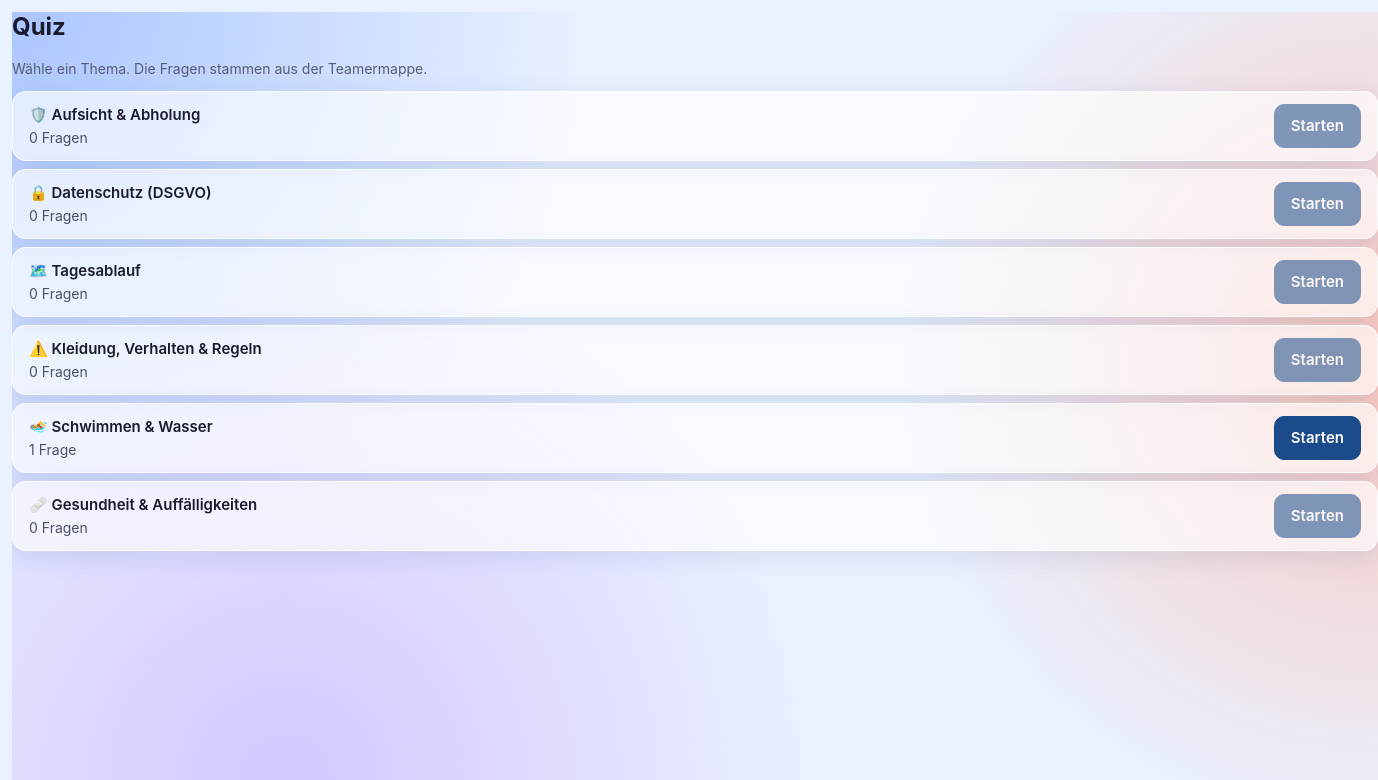
Scenario: Quiz: Ablauf › Mehrfachfrage: Auswahl, Bestätigung, nur vollständig richtig zählt
The image size is (1378, 780).
Click the button with aria-label "Quiz starten: Schwimmen & Wasser".
click(1317, 438)  # box x1=1274 y1=416 x2=1361 y2=460
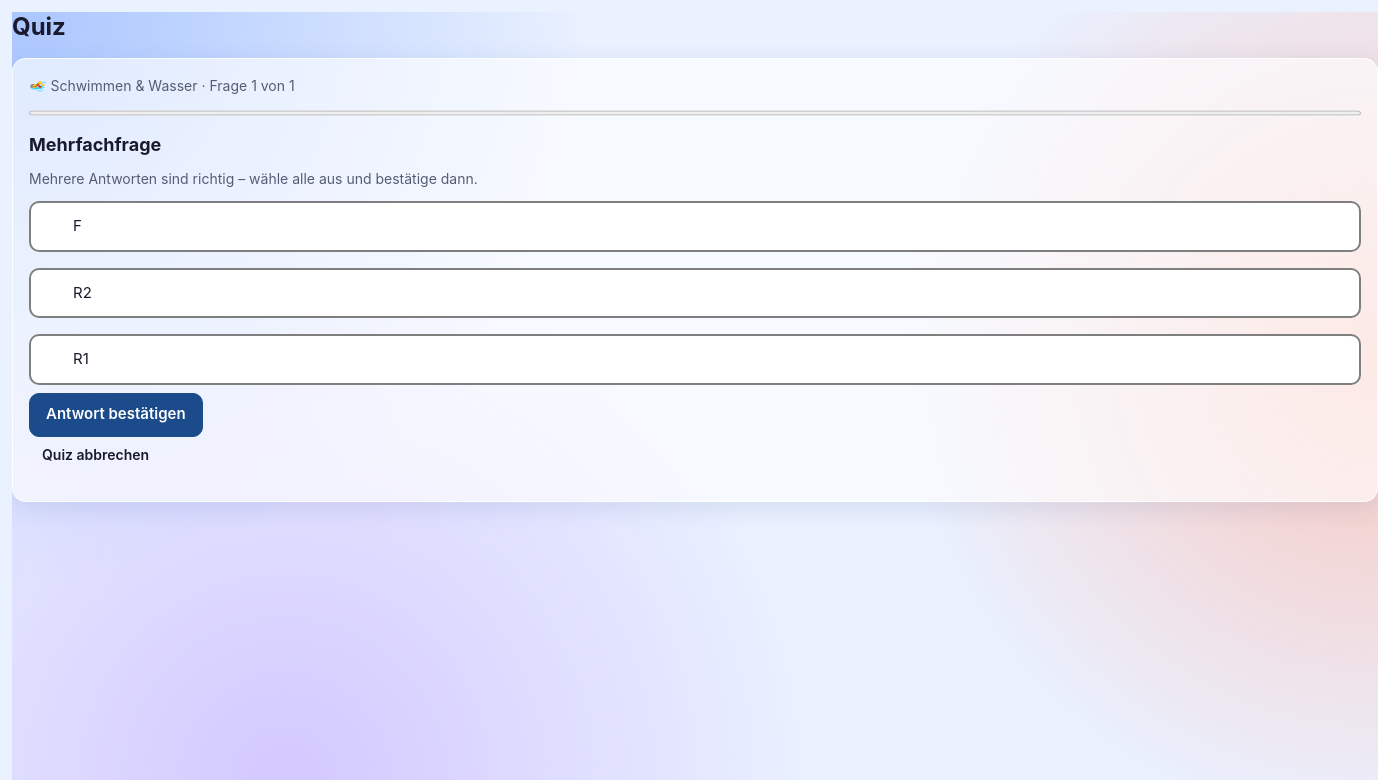
Check: the text "Mehrere Antworten sind richtig" is shown, box x1=29 y1=170 x2=478 y2=187
Click the button "R1".
click(81, 358)  # box x1=29 y1=334 x2=1361 y2=384
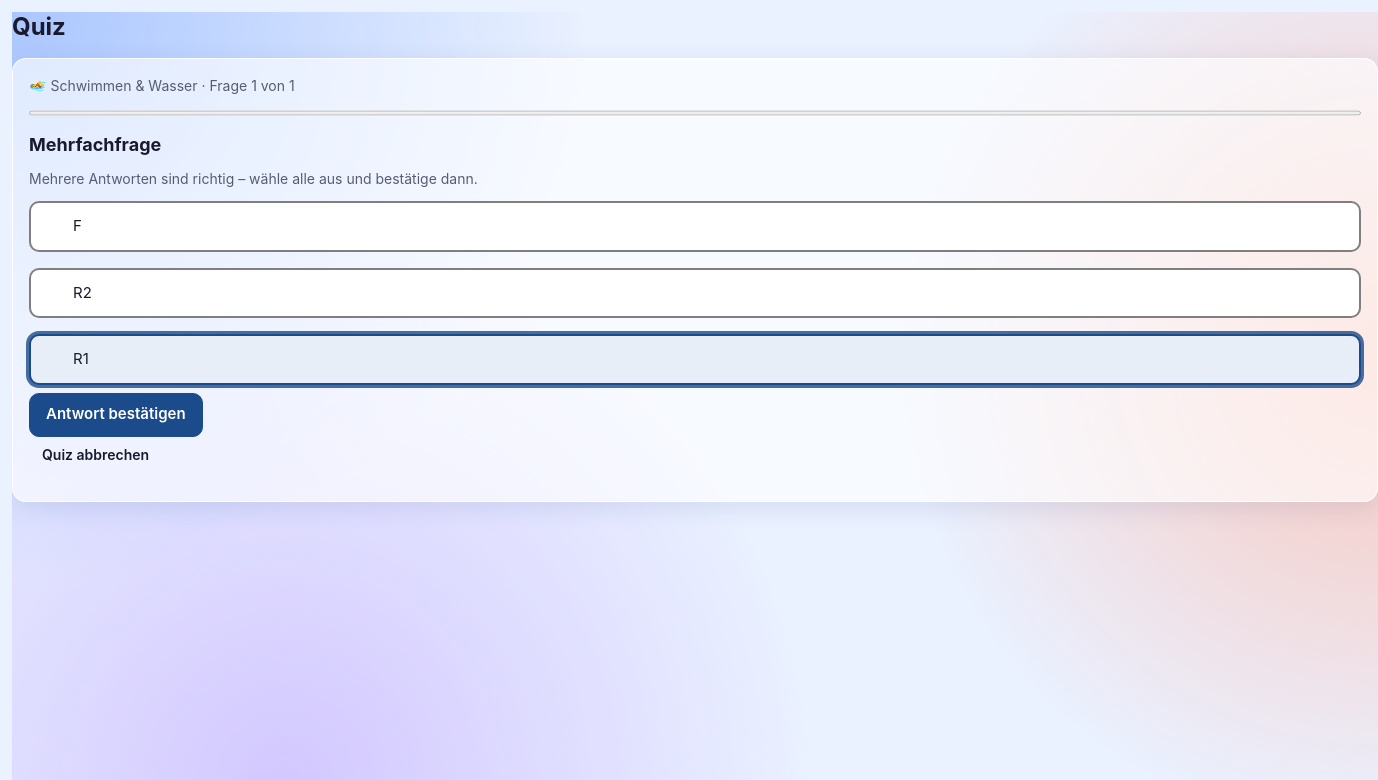
Click the button "Antwort bestätigen".
click(116, 414)  # box x1=29 y1=392 x2=203 y2=436
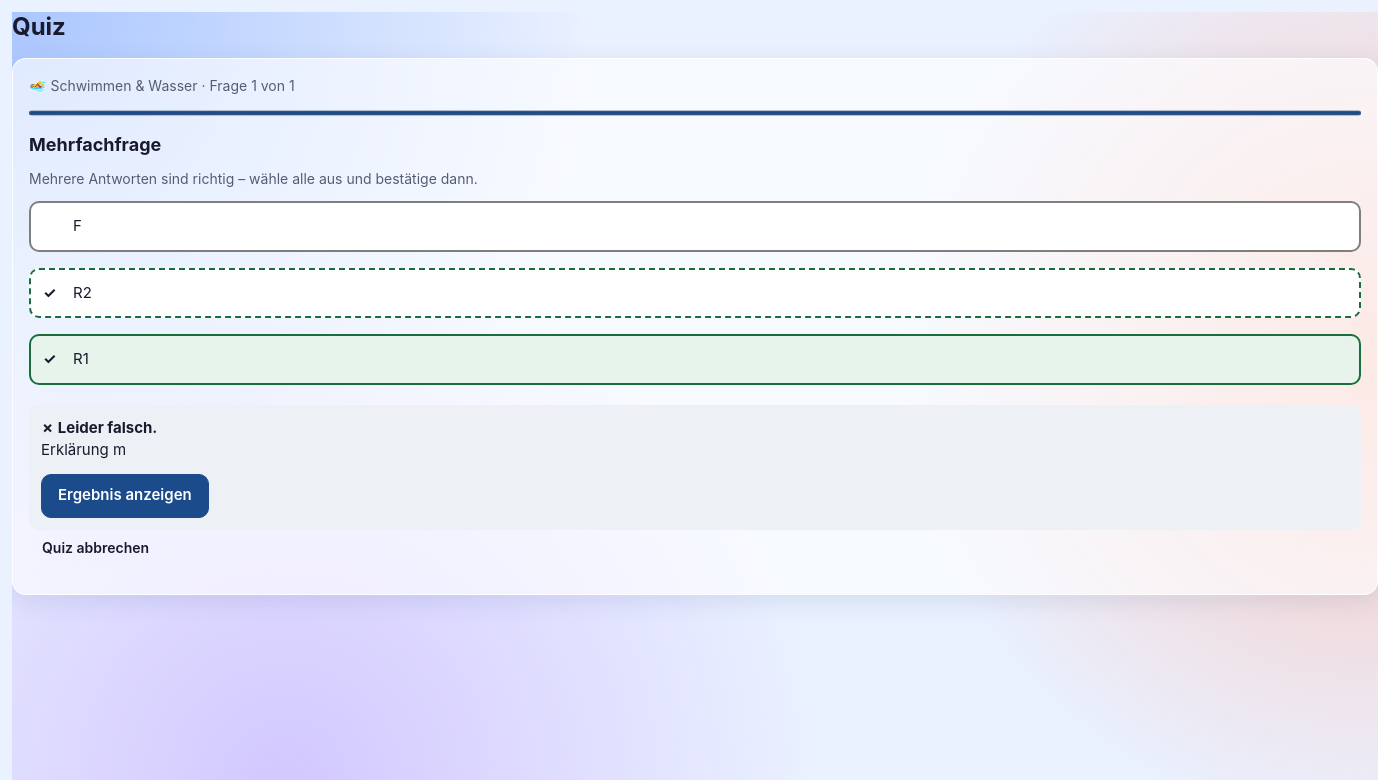
Check: the text "✗ Leider falsch." is shown, box x1=41 y1=418 x2=157 y2=436
Click the button "Ergebnis anzeigen".
click(125, 496)  # box x1=41 y1=474 x2=209 y2=518
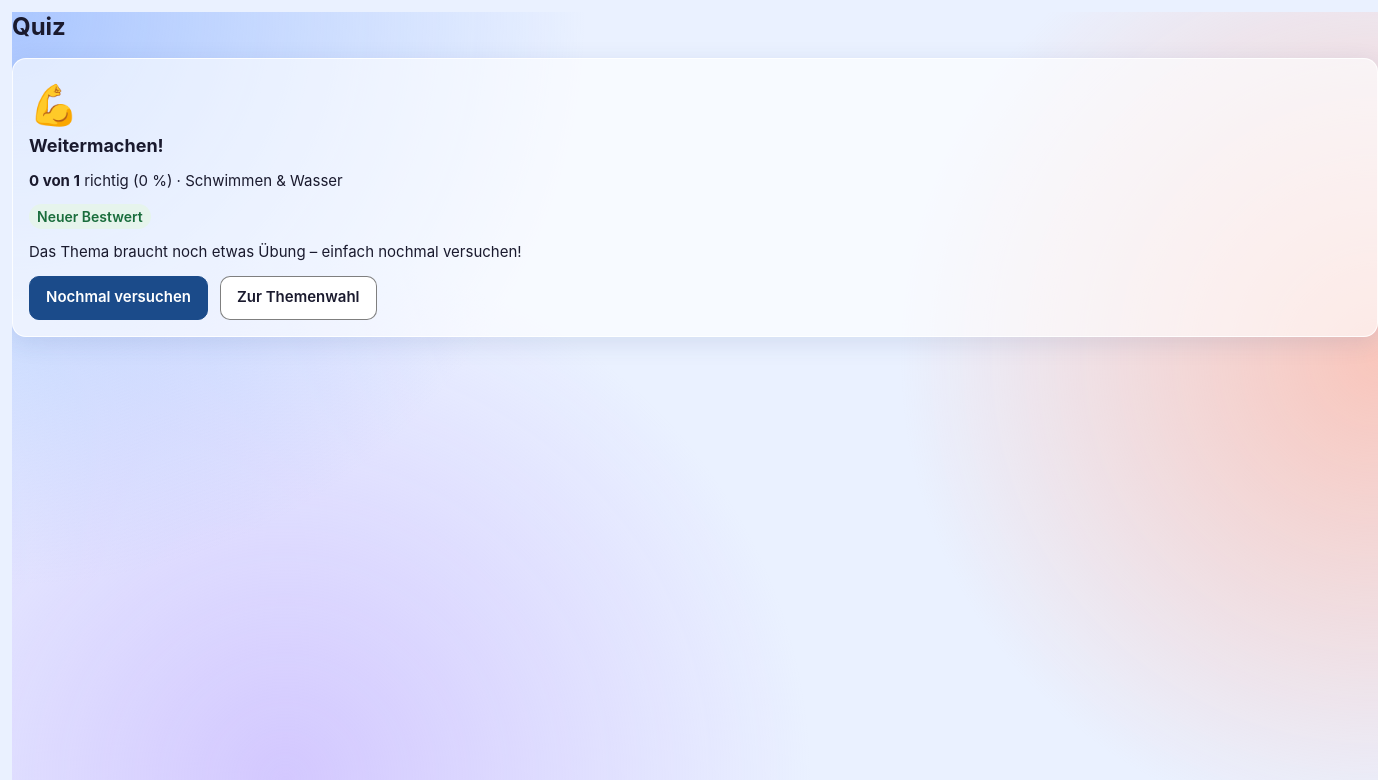
Check: the text "0 von 1" is shown, box x1=29 y1=170 x2=80 y2=190
